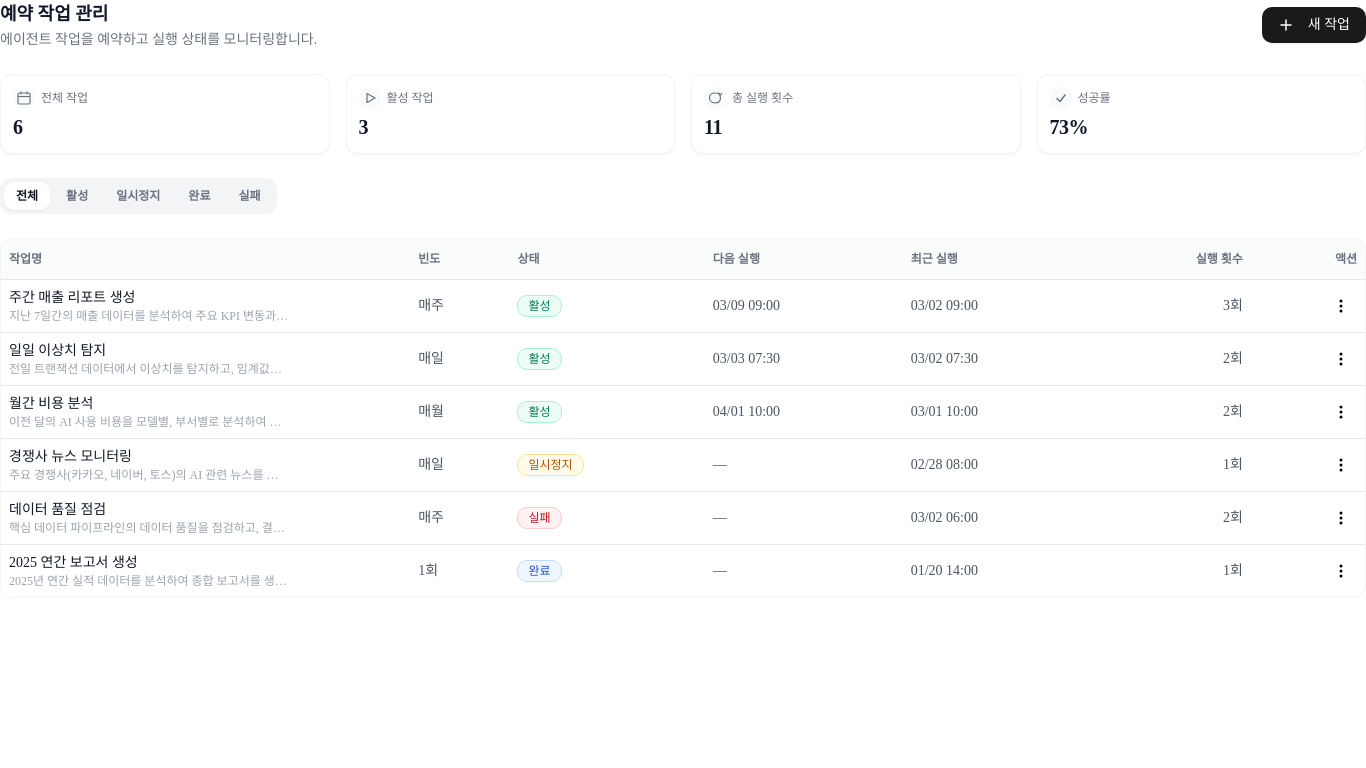
Create Task › shows create dialog when clicking new task button
The image size is (1366, 768).
Click the button with test id "create-task-btn": {"x": 1314, "y": 25} [1262,7,1365,43]
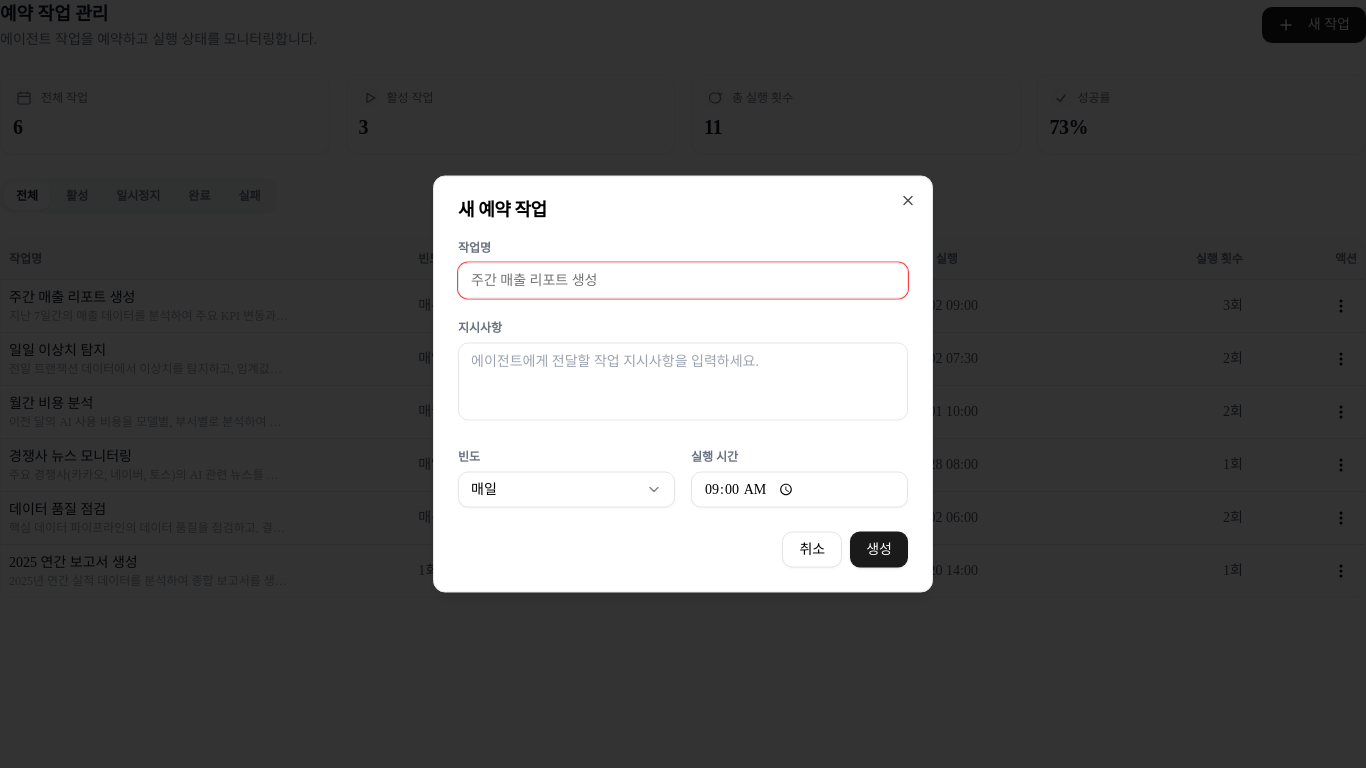
Expected: the heading "새 예약 작업" is shown, [458,200,547,220]
